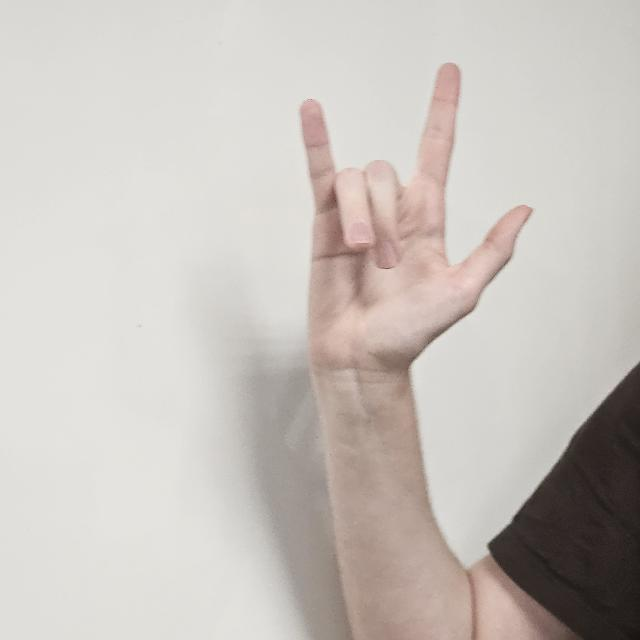Cima: (298, 60, 534, 386)
